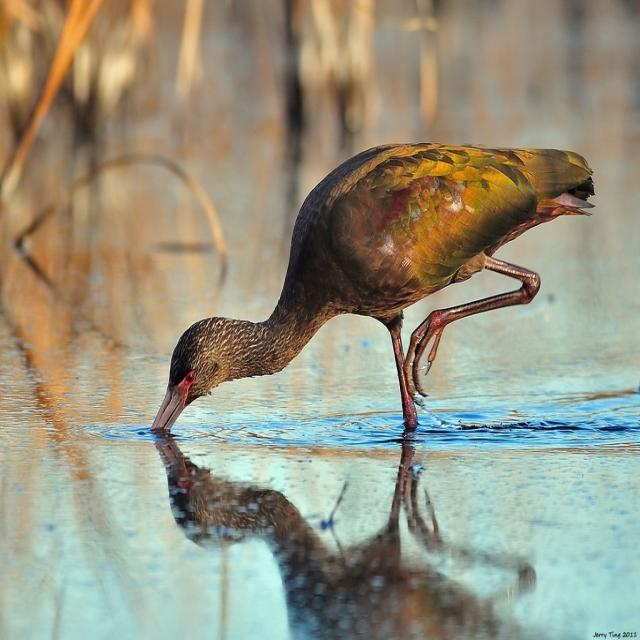bird: (148, 122, 606, 460)
